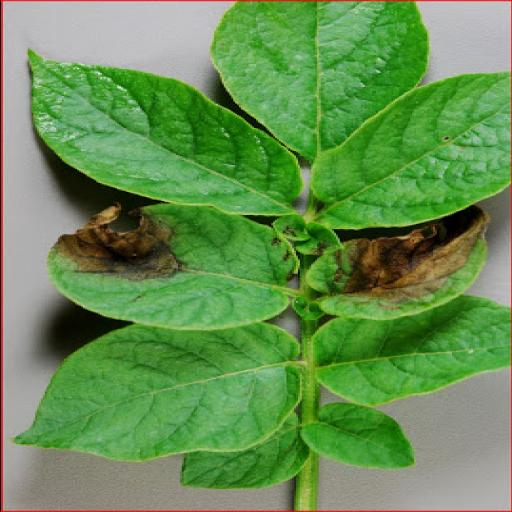disease_tomato: (40, 194, 306, 330), (293, 198, 501, 320)
